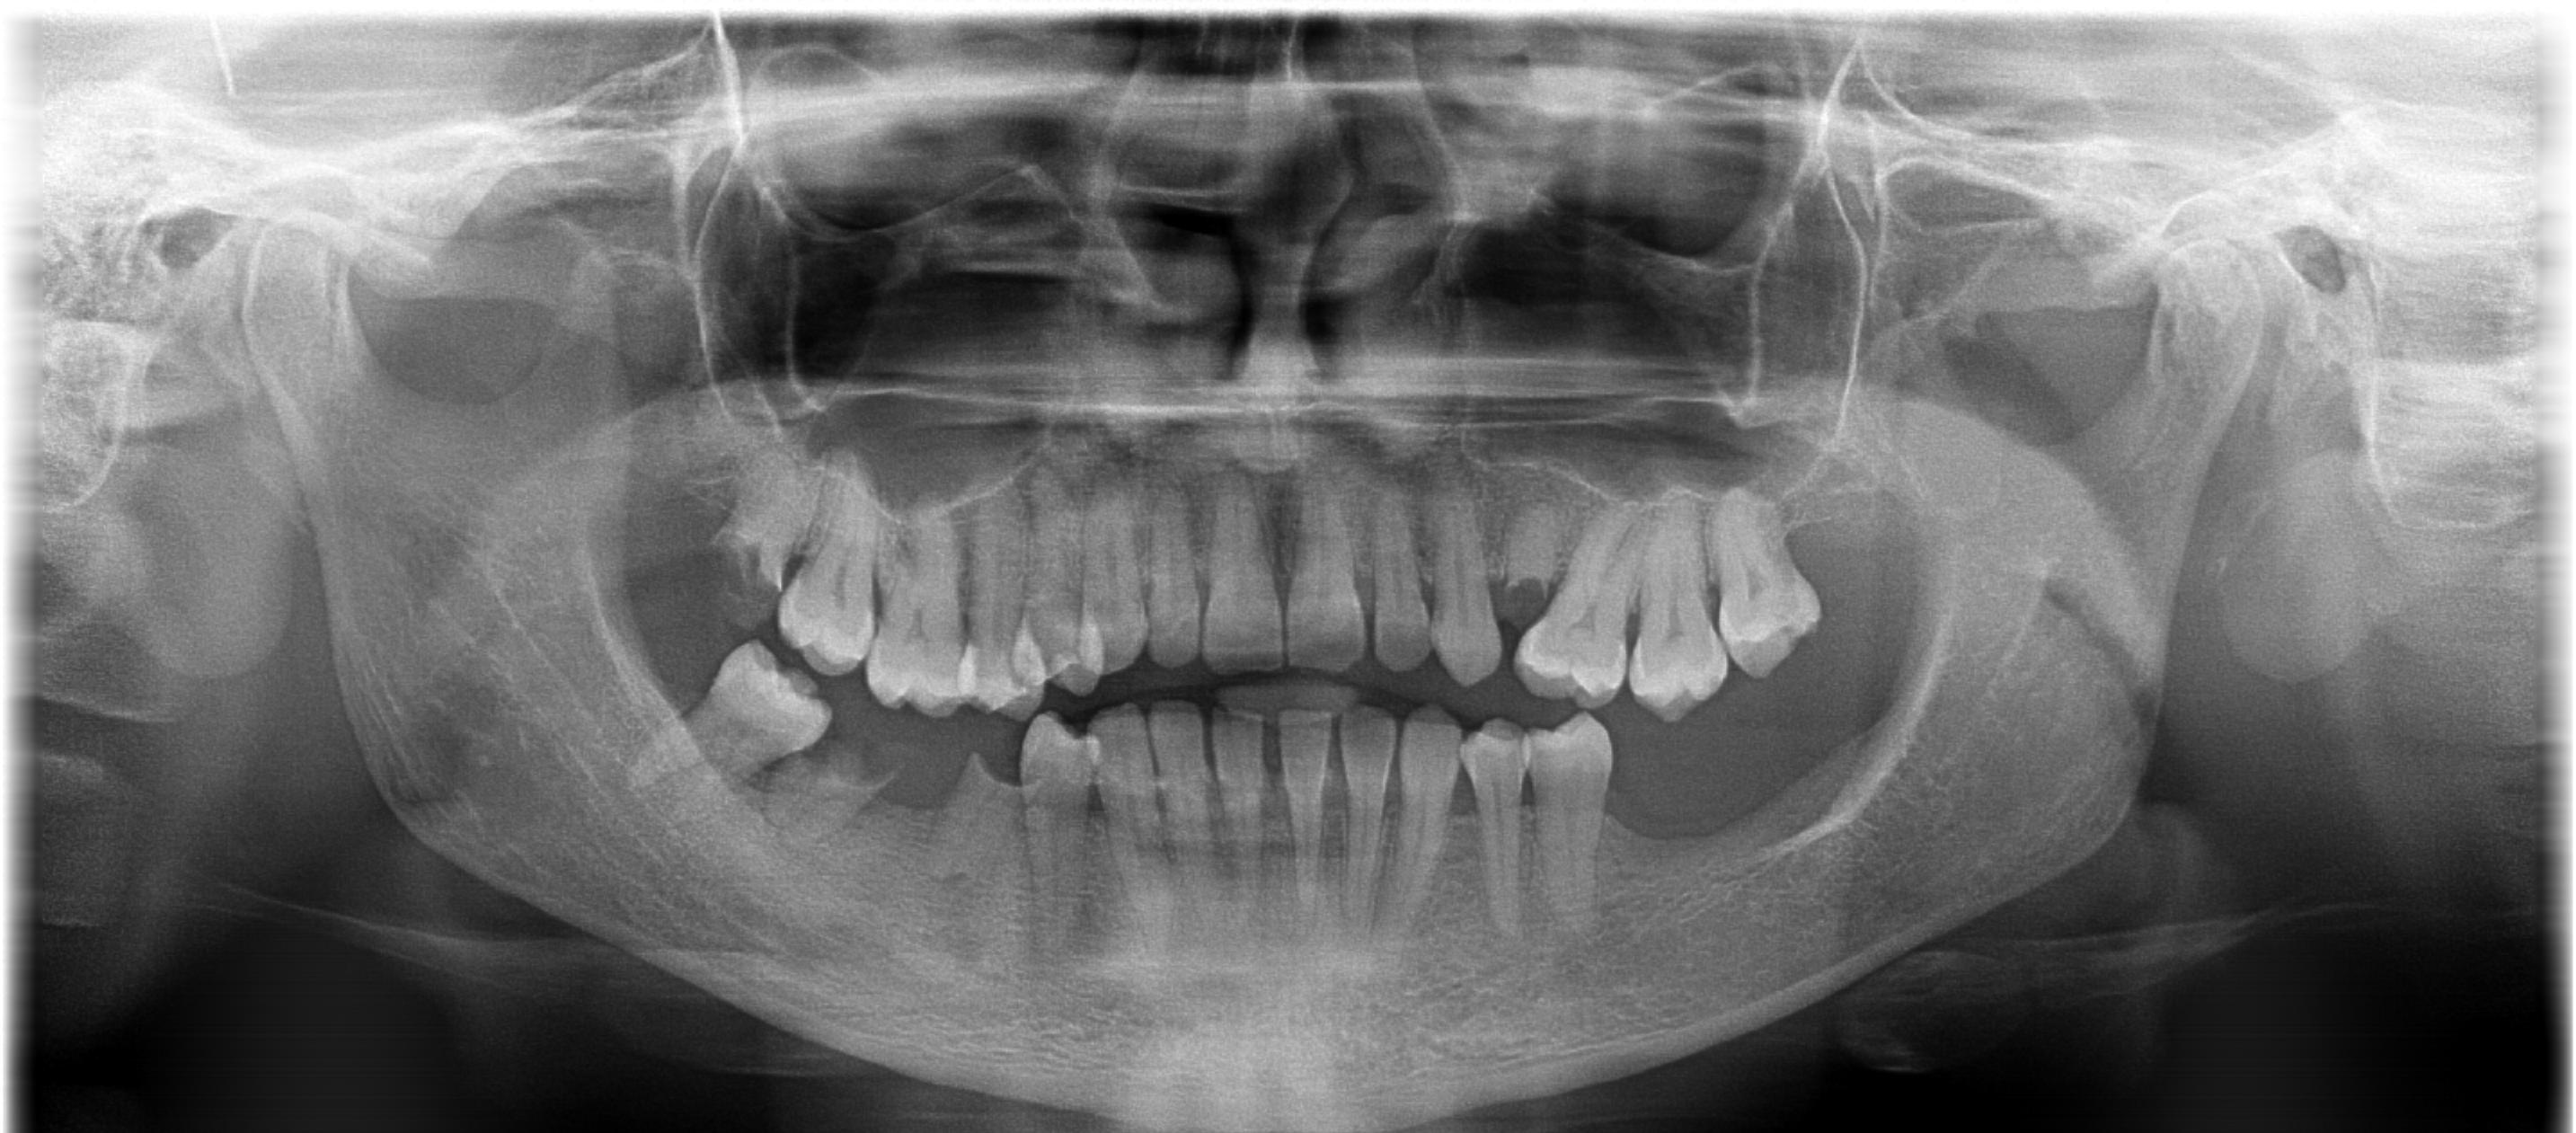cordal: (1677, 471, 1902, 690), (624, 626, 848, 844)
resto_radicular: (687, 437, 835, 609), (904, 727, 1050, 900), (757, 696, 904, 869), (1459, 479, 1605, 652)
zona_dentula: (1566, 729, 1879, 892)
